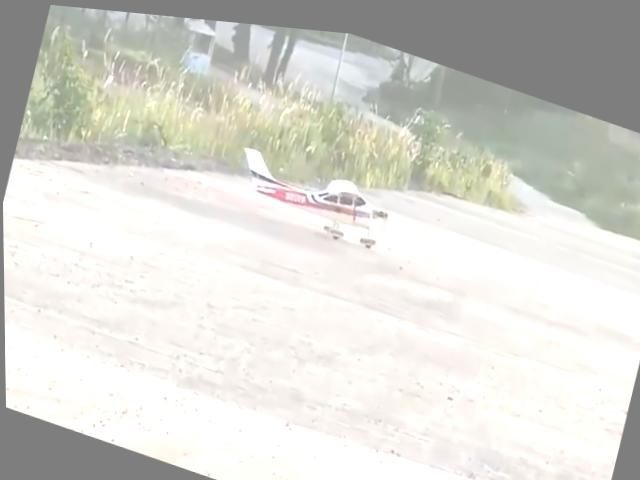plane: (228, 139, 391, 248)
